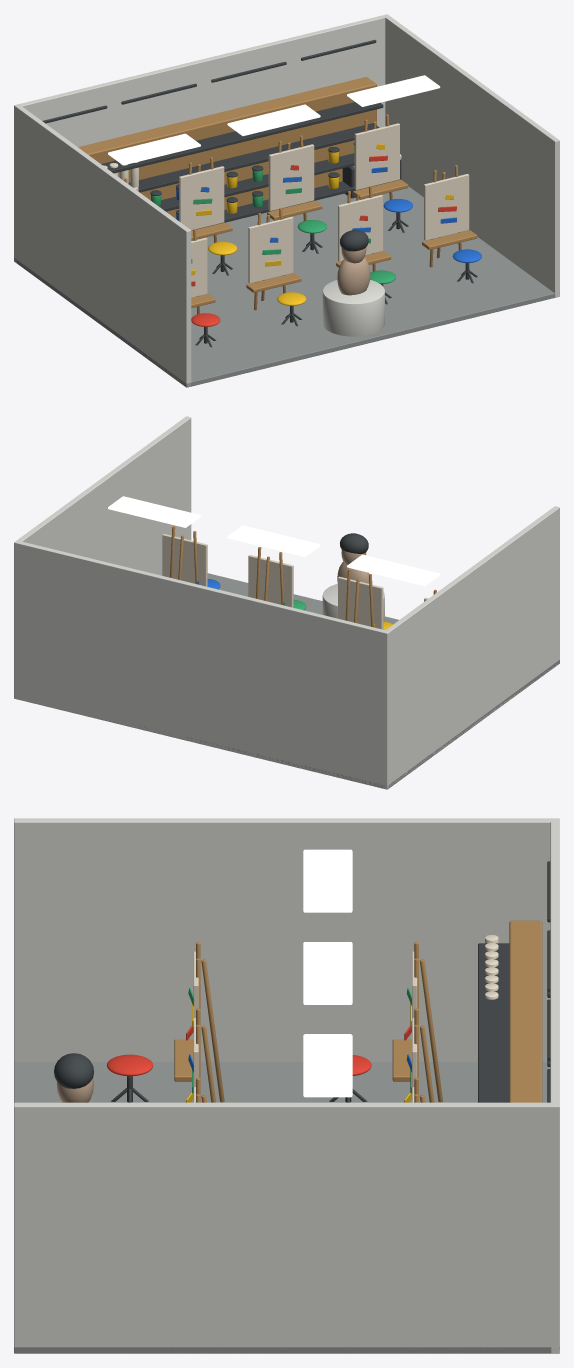
The model's file is classroom_art_studio.glb.
3 renders of one model, top to bottom at view 1: azimuth 30°, elevation 25°; view 2: azimuth 150°, elevation 25°; view 3: azimuth 270°, elevation 25°, orthographic. The views are drawn at different scales.
Visible parts, largest first — view 1: ArtStudio_Floor, ArtStudio_LeftWall, ArtStudio_RightWall, ArtStudio_BackWall, Supply_Shelving, Sculpture_Plinth, Easel_3_Canvas, Easel_6_Canvas, Easel_4_Canvas, Easel_8_Canvas, Easel_2_Canvas, Supply_Shelf_4 (+14 smaller); view 2: ArtStudio_BackWall, ArtStudio_LeftWall, ArtStudio_RightWall, ArtStudio_Floor, Easel_7_Canvas, Easel_8_Canvas, Easel_6_Canvas, CeilingLight_2, CeilingLight_1, CeilingLight_3, Sculpture_Plinth, Sculpture_Hair; view 3: ArtStudio_RightWall, ArtStudio_LeftWall, ArtStudio_Floor, Supply_Shelving, ArtStudio_BackWall, Supply_Shelf_4, CeilingLight_1, CeilingLight_3, CeilingLight_2, Sculpture_Hair, Stool_5_Seat, Easel_1_Shelf (+3 smaller).
Boxes of the visible parts, box(x1,y1,x2,y2) form: ArtStudio_Floor: box(14, 186, 555, 387); ArtStudio_LeftWall: box(14, 105, 191, 387); ArtStudio_RightWall: box(383, 14, 559, 297); ArtStudio_BackWall: box(14, 14, 389, 262); Supply_Shelving: box(78, 77, 376, 218); Sculpture_Plinth: box(322, 280, 384, 336); Easel_3_Canvas: box(268, 144, 314, 210); Easel_6_Canvas: box(248, 216, 293, 283); Easel_4_Canvas: box(354, 123, 399, 190); Easel_8_Canvas: box(424, 174, 469, 240); Easel_2_Canvas: box(179, 166, 224, 230); Supply_Shelf_4: box(101, 102, 383, 173); ArtStudio_BackWall: box(14, 540, 390, 789); ArtStudio_LeftWall: box(382, 506, 559, 789); ArtStudio_RightWall: box(14, 416, 191, 622); ArtStudio_Floor: box(14, 573, 559, 788); Easel_7_Canvas: box(248, 555, 293, 607); Easel_8_Canvas: box(162, 534, 207, 586); Easel_6_Canvas: box(338, 576, 383, 629); CeilingLight_2: box(227, 525, 320, 556); CeilingLight_1: box(347, 554, 440, 586); CeilingLight_3: box(108, 496, 200, 527); Sculpture_Plinth: box(322, 584, 384, 621); Sculpture_Hair: box(340, 533, 368, 553); ArtStudio_RightWall: box(14, 1102, 559, 1353); ArtStudio_LeftWall: box(14, 818, 559, 1061); ArtStudio_Floor: box(14, 1062, 559, 1353); Supply_Shelving: box(509, 920, 542, 1102); ArtStudio_BackWall: box(550, 818, 559, 1353); Supply_Shelf_4: box(478, 943, 509, 1102); CeilingLight_1: box(303, 849, 352, 912); CeilingLight_3: box(303, 1034, 352, 1097); CeilingLight_2: box(303, 942, 352, 1004); Sculpture_Hair: box(54, 1053, 93, 1088); Stool_5_Seat: box(107, 1054, 153, 1076); Easel_1_Shelf: box(392, 1039, 411, 1081).
Size of the model in its own units: 10 by 4 by 8.
